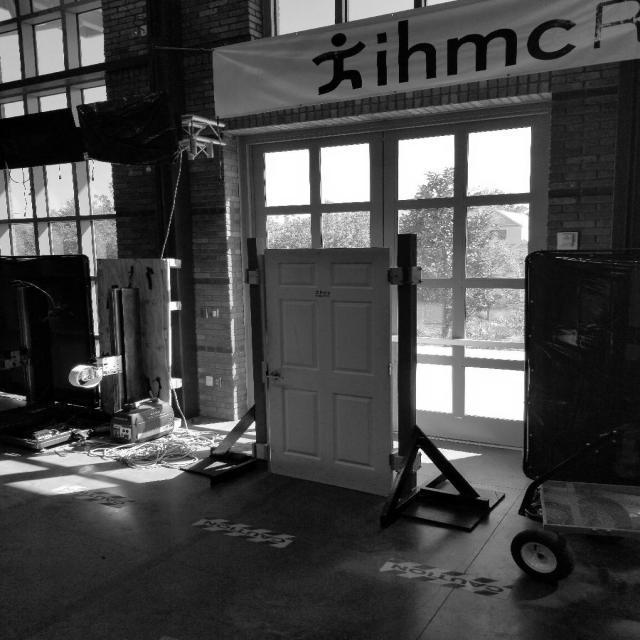door: (261, 246, 402, 504), (263, 370, 287, 382)
